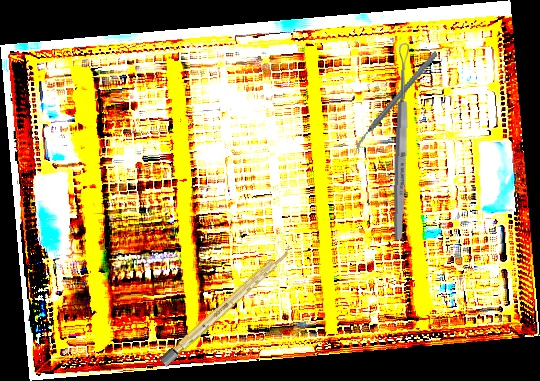Chopper: (331, 50, 462, 155)
Scalpel Handle: (158, 243, 295, 368)
Surgical Spoon: (391, 42, 412, 242)
